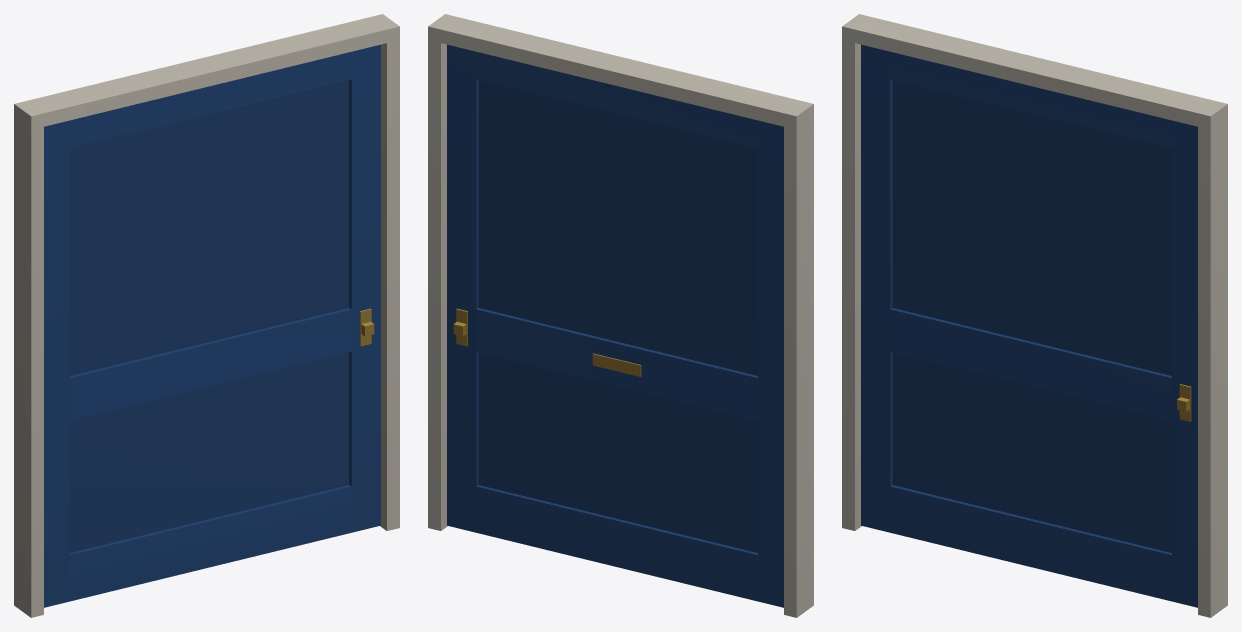
File: door.painted.blue.glb
3 renders of one model, left to right at view 1: azimuth 30°, elevation 25°; view 2: azimuth 150°, elevation 25°; view 3: azimuth 330°, elevation 25°, orthographic.
Parts seen in each view (by area): view 1: door_painted_blue; view 2: door_painted_blue; view 3: door_painted_blue.
Part boxes in pixels (bbox=[...]): door_painted_blue: bbox=[14, 14, 399, 617]; door_painted_blue: bbox=[428, 14, 813, 617]; door_painted_blue: bbox=[842, 14, 1227, 617].
Size of what is drawn, in the model's own units: 2 by 2.6 by 0.16.
